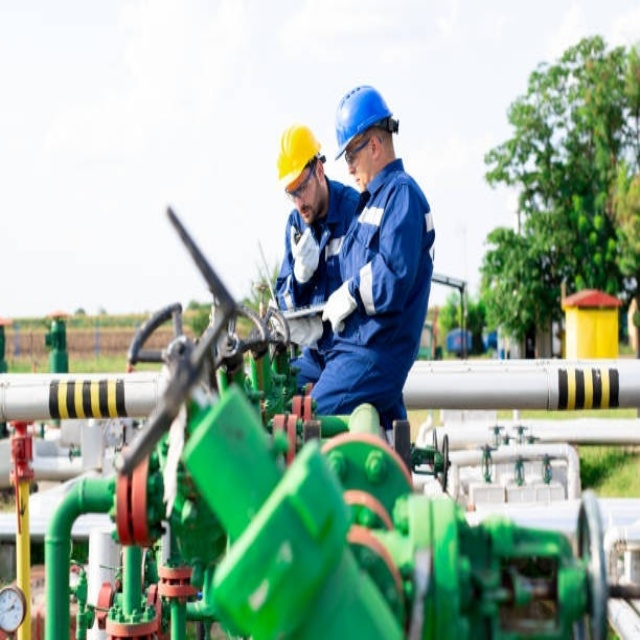Gafas: (286, 161, 320, 201), (343, 132, 381, 166)
Guantes: (320, 273, 357, 337), (285, 223, 322, 281)
Sin_mascara: (297, 202, 315, 223), (350, 171, 366, 191)
